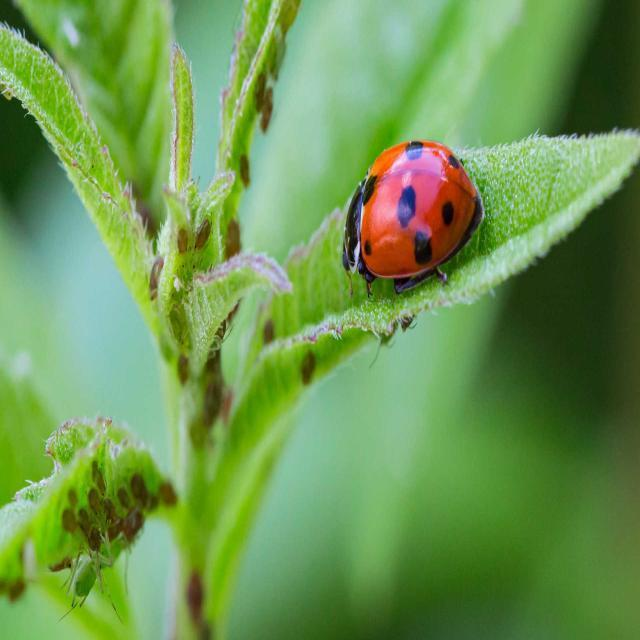Aphids: (285, 329, 328, 405), (138, 236, 172, 312), (253, 302, 281, 365), (189, 205, 219, 263), (130, 457, 156, 515), (151, 468, 183, 515), (174, 217, 194, 260)
